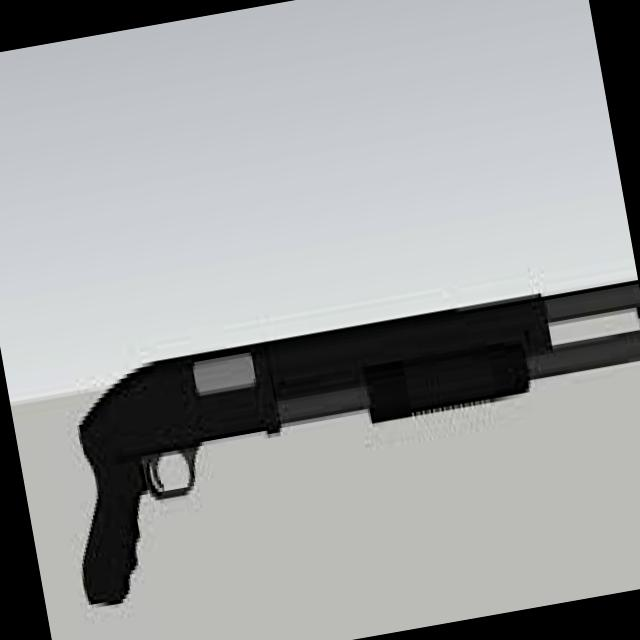long weapon: (40, 264, 640, 613)
